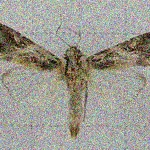Spodoptera litura: (1, 8, 150, 139)
